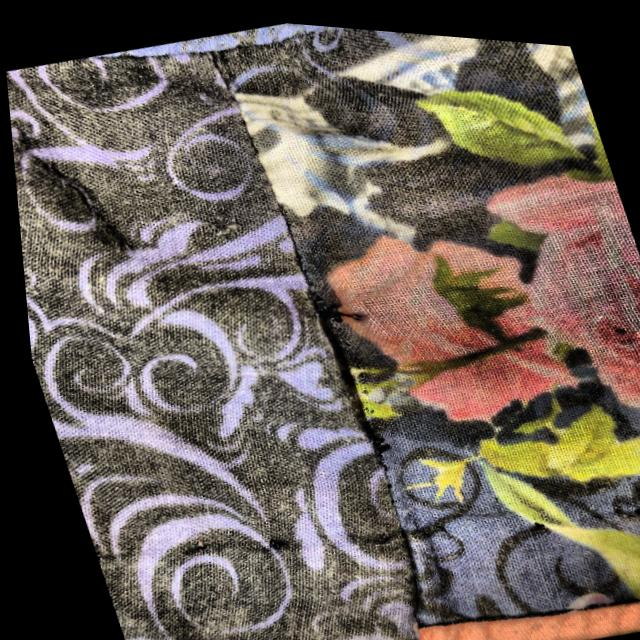seam: (264, 225, 441, 481)
